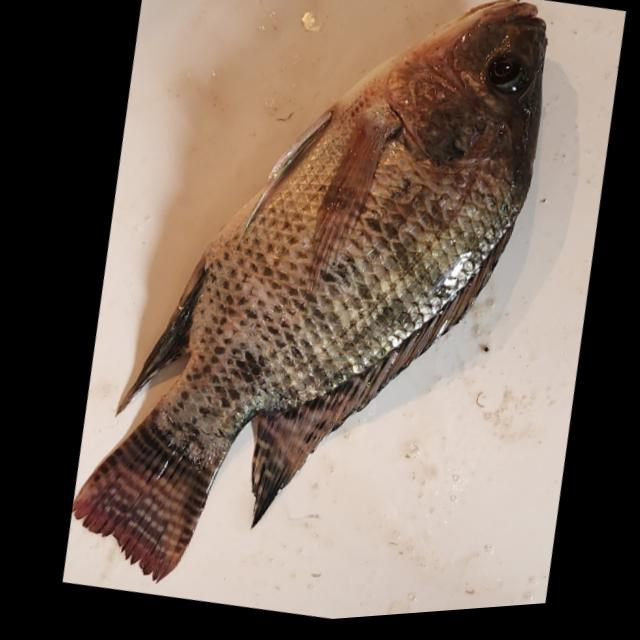Tilapia: (22, 0, 599, 638)
